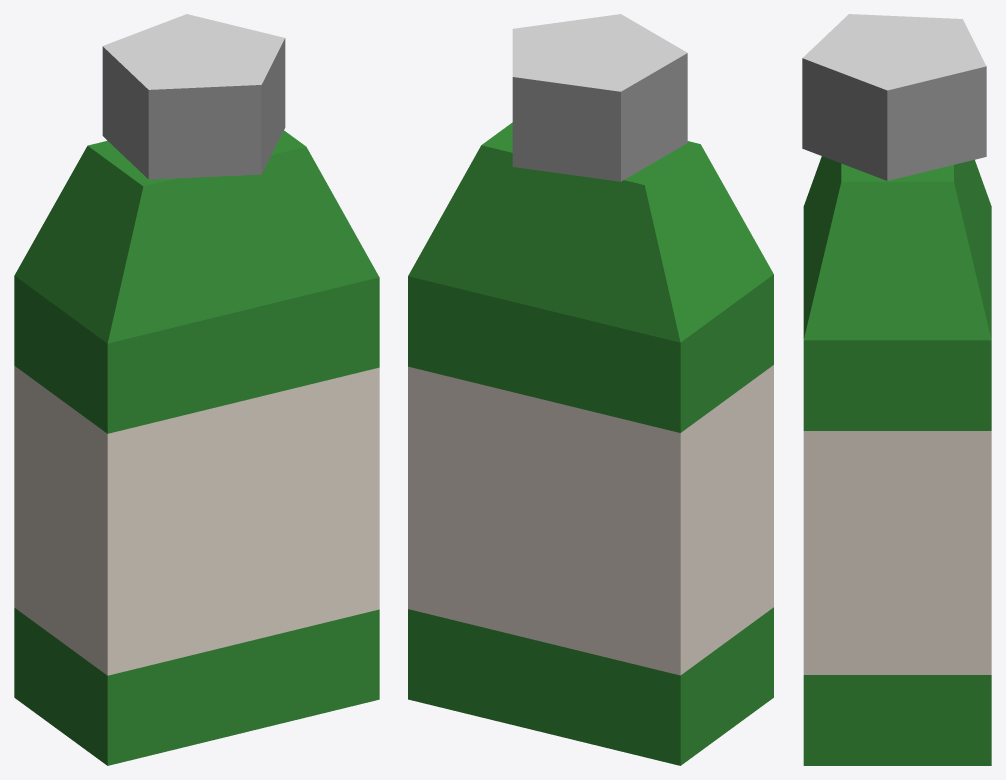
File: TB_D_Prop_Bottle_Med_A.FBX
3 views of the same model, side by side, from view 1: azimuth 30°, elevation 25°; view 2: azimuth 150°, elevation 25°; view 3: azimuth 270°, elevation 25° (orthographic).
Parts seen in each view (by area): view 1: TB_D_Prop_Bottle_Med_A; view 2: TB_D_Prop_Bottle_Med_A; view 3: TB_D_Prop_Bottle_Med_A.
Boxes of the visible parts, left/top/right/bottom form: TB_D_Prop_Bottle_Med_A: left=14, top=14, right=379, bottom=765; TB_D_Prop_Bottle_Med_A: left=408, top=14, right=773, bottom=765; TB_D_Prop_Bottle_Med_A: left=802, top=14, right=991, bottom=765.
Size of the model in its own units: 0.3144 by 0.7119 by 0.1879.
